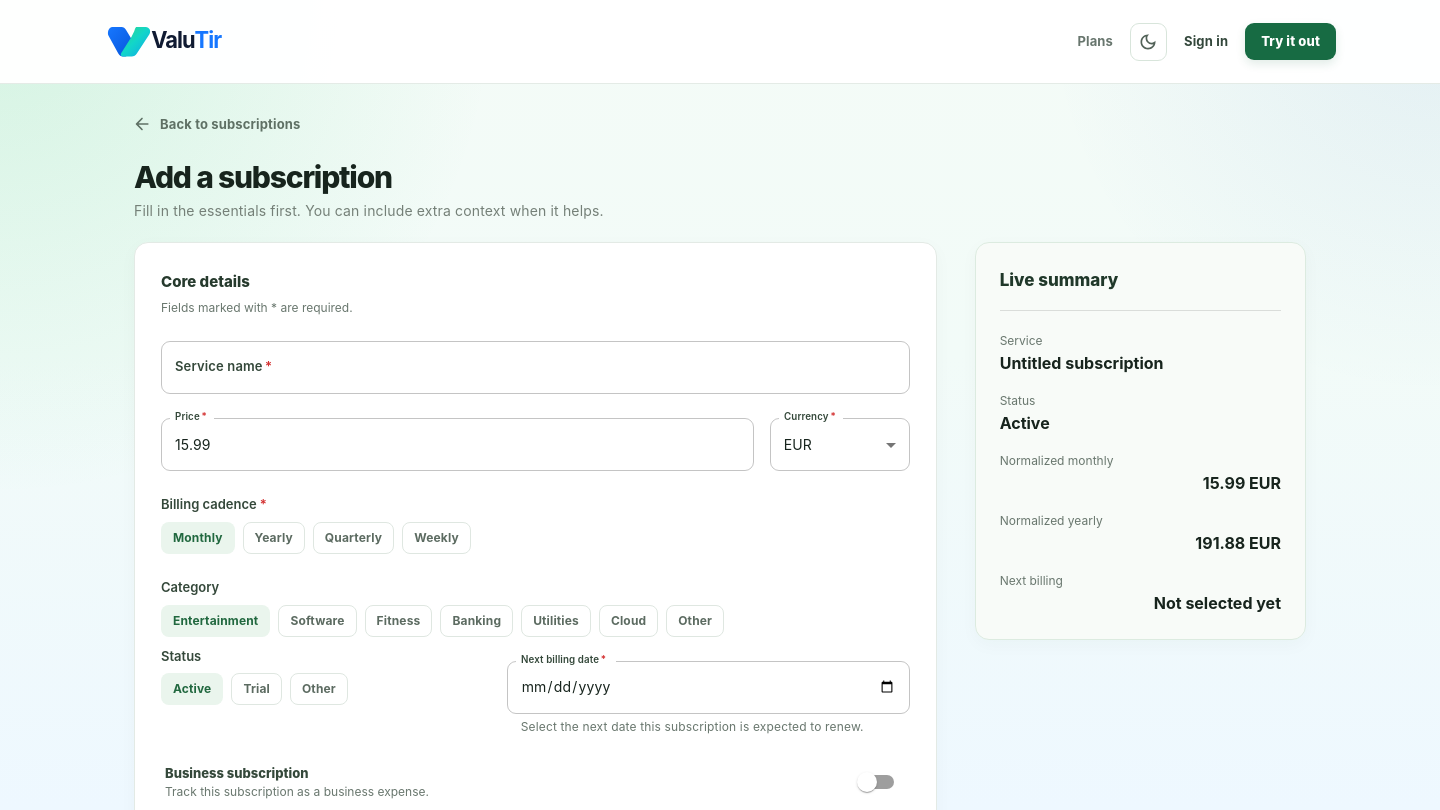
Test: AddSubscriptionPage › updates normalized yearly value when amount changes
The width and height of the screenshot is (1440, 810).
Replace the text in the number field labelled "Price *" with "20" at [457, 445], box [161,418,754,471]
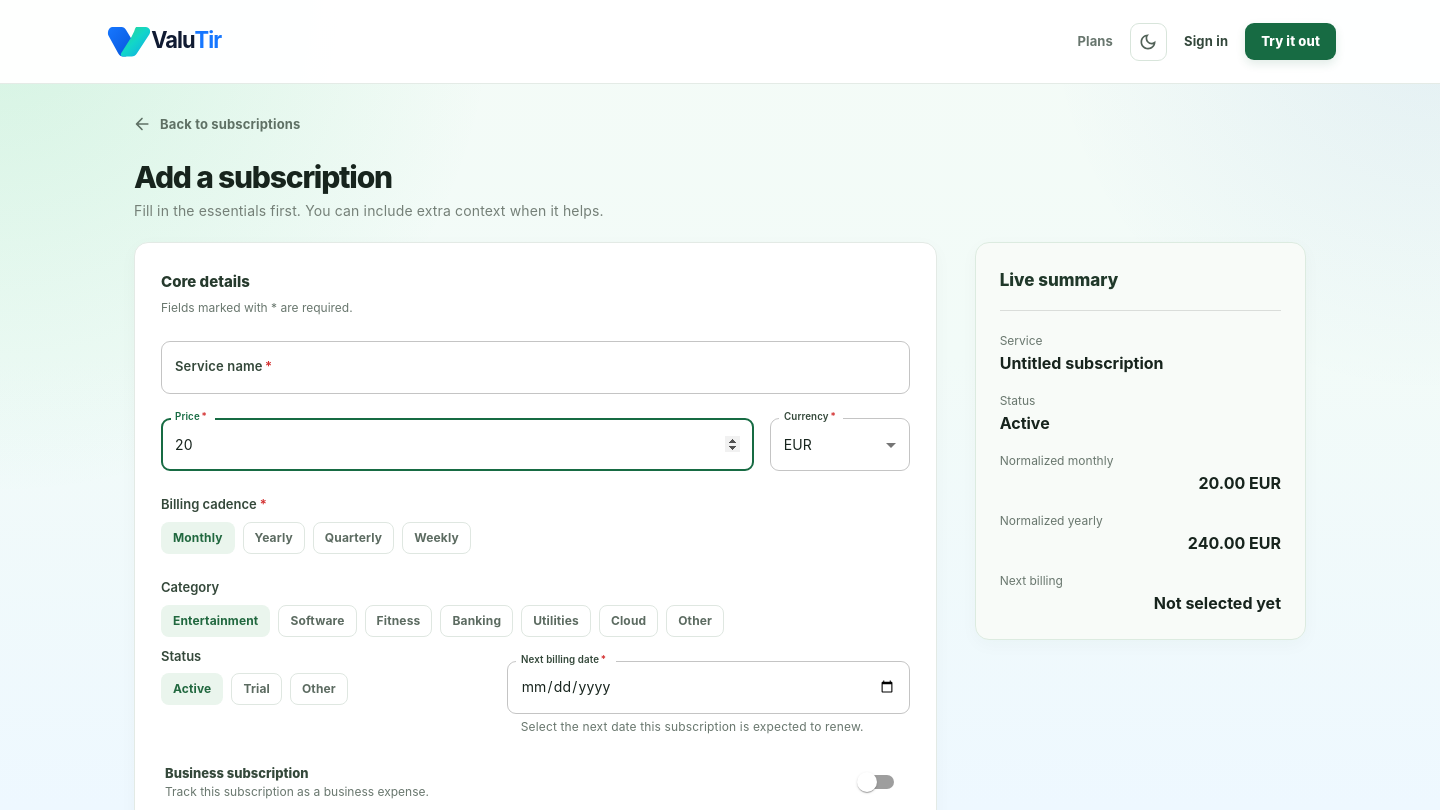
Expected: the text "Normalized yearly" is shown, [1000,513,1103,528]
Result: the text "240.00 EUR" is shown at [1188,533,1281,553]
